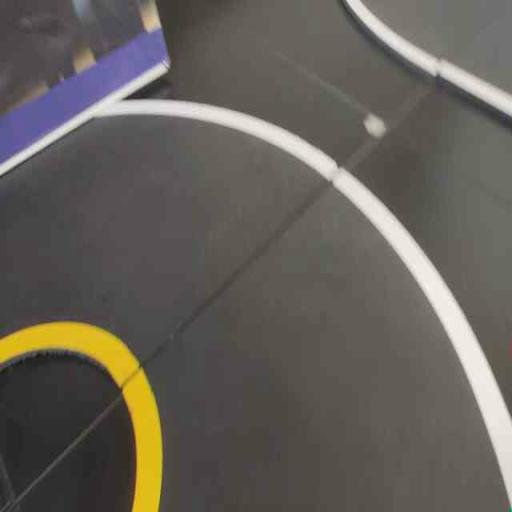left: (75, 136, 511, 511)
